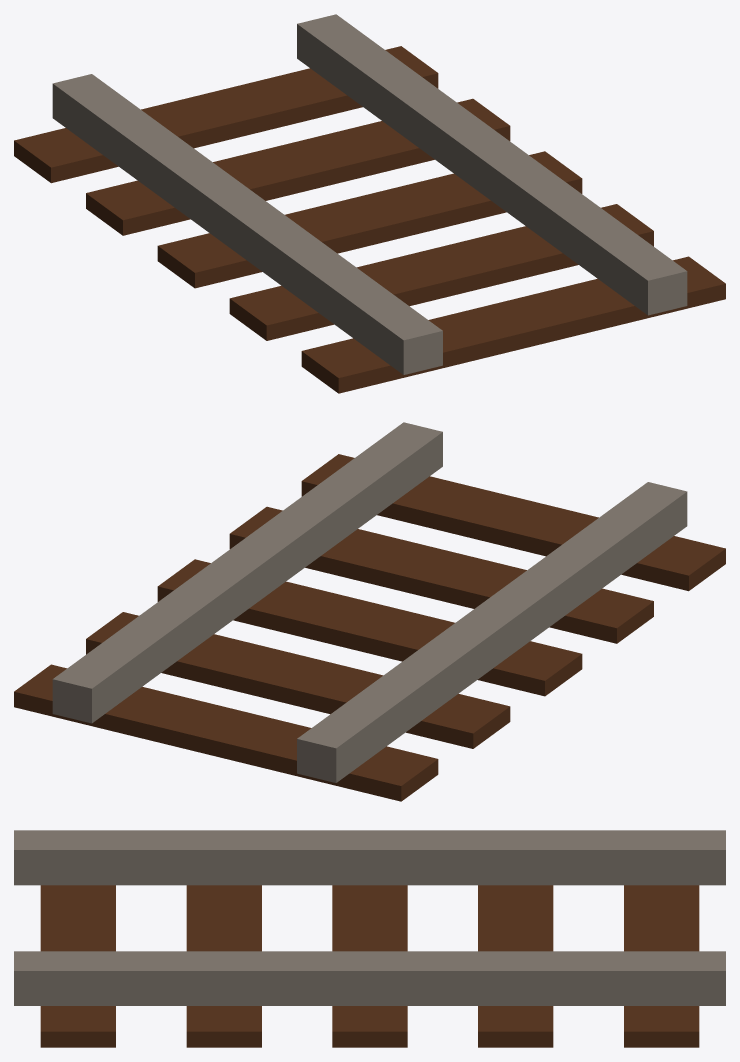
Rendered from Rail000.fbx.
3 views of the same model, one above another, from view 1: azimuth 30°, elevation 25°; view 2: azimuth 150°, elevation 25°; view 3: azimuth 270°, elevation 25° (orthographic).
Visible parts, largest first — view 1: rail001; view 2: rail001; view 3: rail001.
Part boxes in pixels (x1=…): rail001: x1=14, y1=14, x2=725, y2=393; rail001: x1=14, y1=422, x2=725, y2=801; rail001: x1=14, y1=830, x2=725, y2=1047.
Bounding box in the file's own units: 112 × 13.96 × 177.
